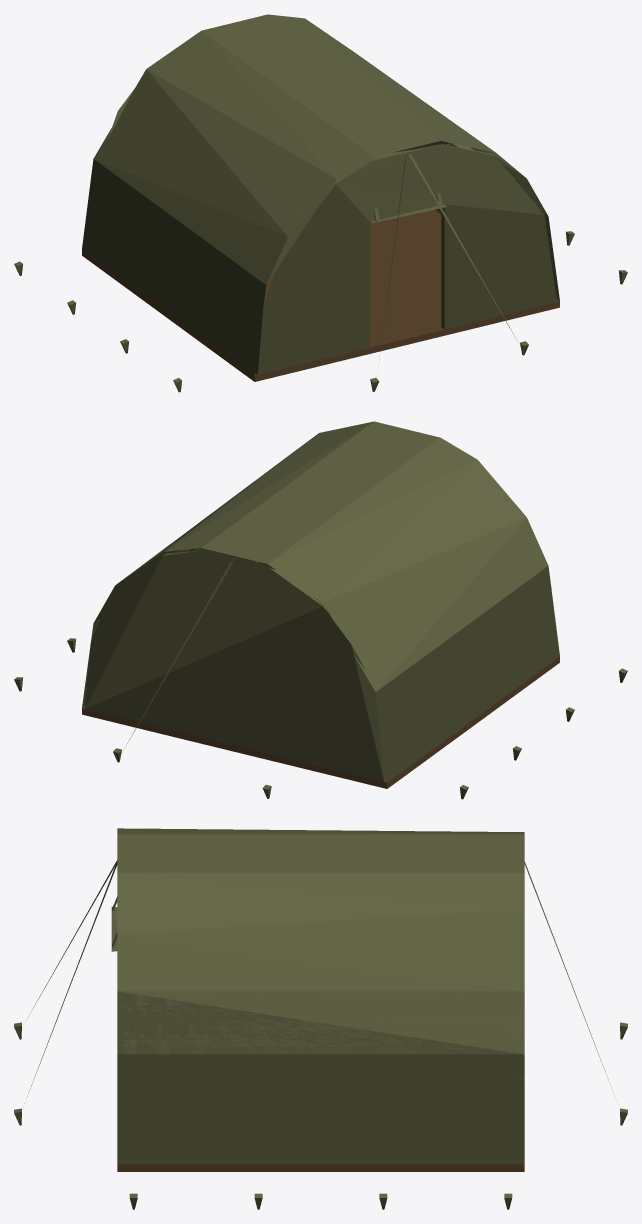
Rendered from army-tent.paint-v1.lod2.glb.
The picture shows the model from 3 angles, top to bottom: view 1: azimuth 30°, elevation 25°; view 2: azimuth 150°, elevation 25°; view 3: azimuth 270°, elevation 25°; orthographic projection. The views are drawn at different scales.
Parts seen in each view (by area): view 1: Object_2; view 2: Object_2; view 3: Object_2.
Boxes of the visible parts, x1,y1,x2,y2 form: Object_2: (14,14,627,392); Object_2: (14,421,627,799); Object_2: (14,828,627,1209).
Bounding box in the file's own units: 7.5 × 3.11 × 7.5.
